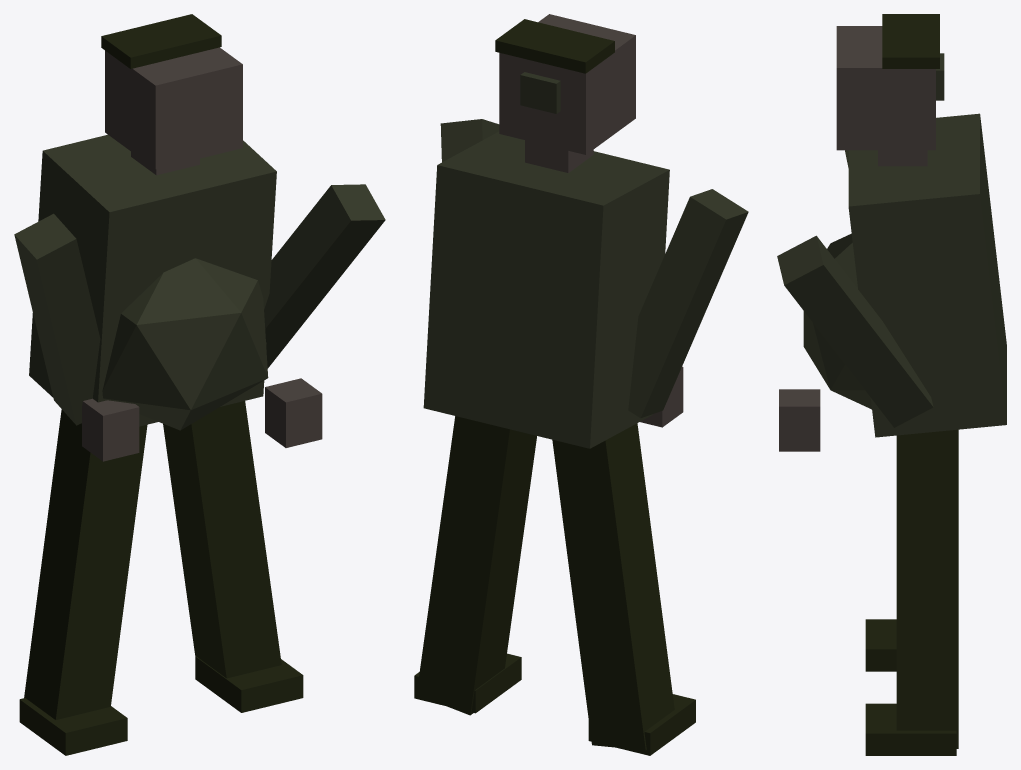
The model's file is SM_Zombi_v17_Gordo_LOD0.fbx.
The picture shows the model from 3 angles, left to right: view 1: azimuth 30°, elevation 25°; view 2: azimuth 150°, elevation 25°; view 3: azimuth 270°, elevation 25°; orthographic projection.
Visible parts, largest first — view 1: SM_zombi_fino_v17_LOD0; view 2: SM_zombi_fino_v17_LOD0; view 3: SM_zombi_fino_v17_LOD0.
Boxes of the visible parts, bbox=[...] form: SM_zombi_fino_v17_LOD0: bbox=[14, 14, 385, 755]; SM_zombi_fino_v17_LOD0: bbox=[414, 14, 748, 755]; SM_zombi_fino_v17_LOD0: bbox=[777, 14, 1006, 755].
Bounding box in the file's own units: 0.8777 × 1.78 × 0.5558.
